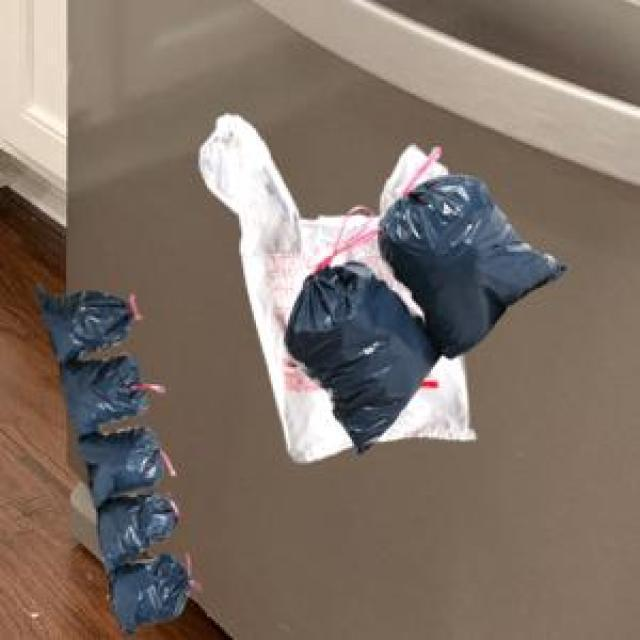miscellaneous trash: (282, 143, 561, 450), (33, 282, 188, 632)
